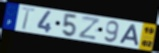4: (36, 10, 53, 34)
5: (61, 13, 78, 38)
9: (103, 20, 120, 43)
A: (118, 23, 140, 47)
T: (21, 6, 36, 31)
Z: (77, 15, 101, 41)
